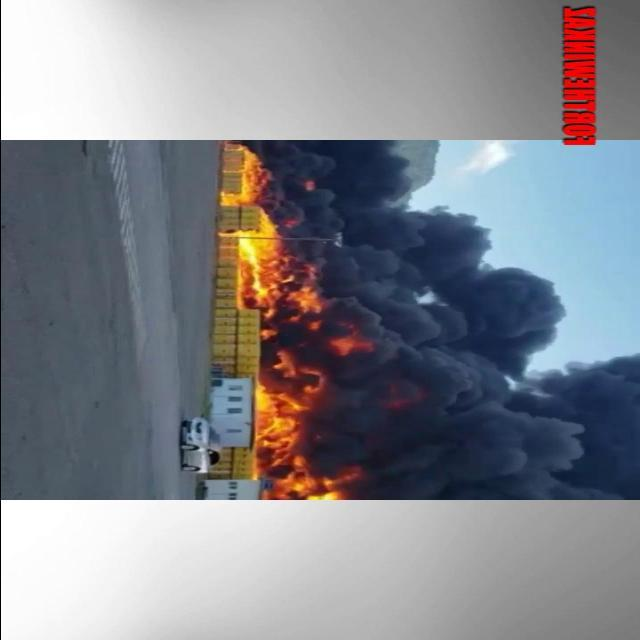Fire: (254, 375, 332, 497), (241, 147, 291, 313)
